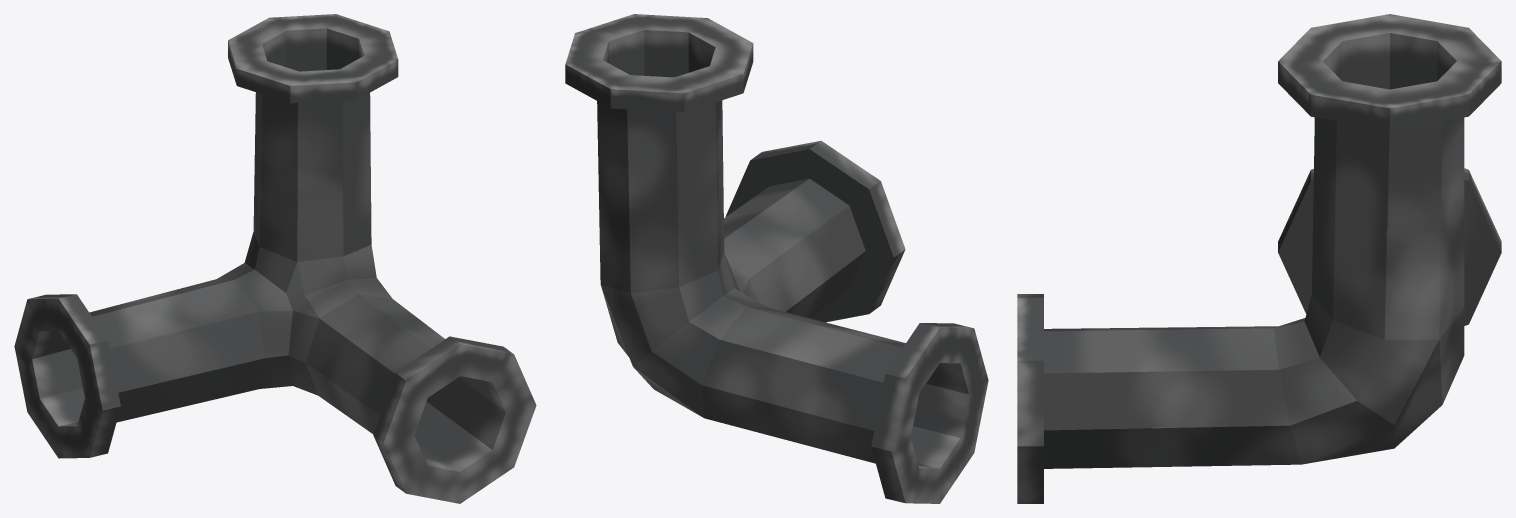
The picture shows the model from 3 angles, left to right: view 1: azimuth 30°, elevation 25°; view 2: azimuth 150°, elevation 25°; view 3: azimuth 270°, elevation 25°; orthographic projection. The views are drawn at different scales.
Visible parts, largest first — view 1: Pipe3-1; view 2: Pipe3-1; view 3: Pipe3-1.
Part boxes in pixels (x1=…): Pipe3-1: x1=14, y1=14, x2=536, y2=503; Pipe3-1: x1=565, y1=14, x2=988, y2=503; Pipe3-1: x1=1017, y1=14, x2=1501, y2=503.
Size of the model in its own units: 6.5 by 6.5 by 6.5.
Materials: 1 (1 with a texture image).
